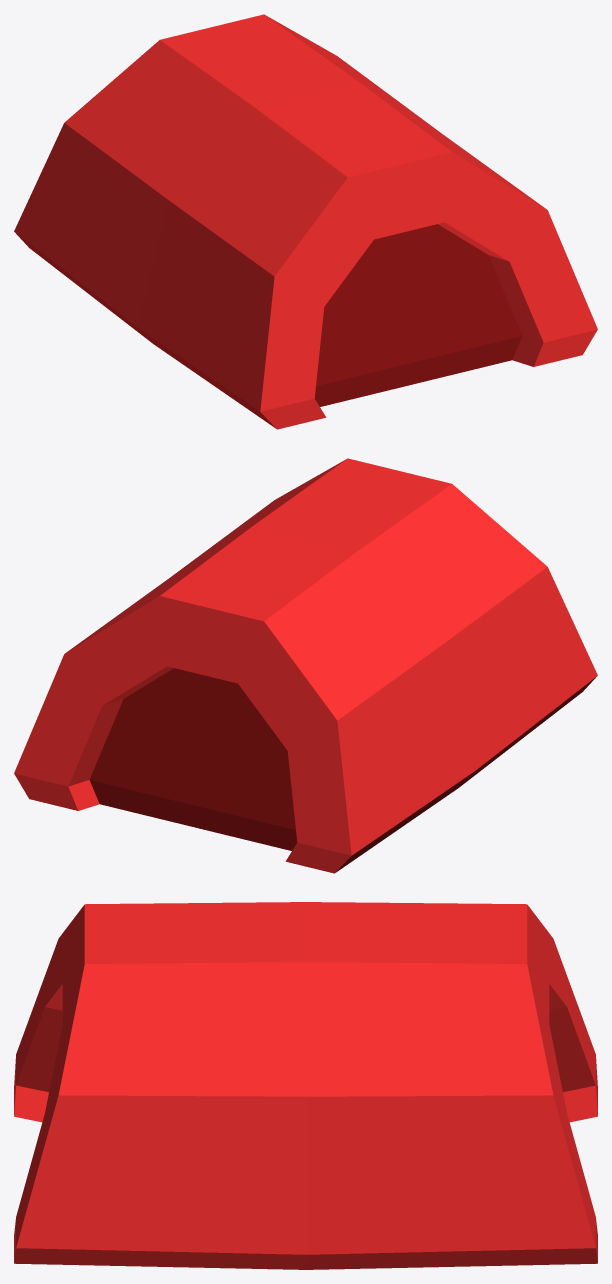
The picture shows the model from 3 angles, top to bottom: view 1: azimuth 30°, elevation 25°; view 2: azimuth 150°, elevation 25°; view 3: azimuth 270°, elevation 25°; orthographic projection. The views are drawn at different scales.
Parts seen in each view (by area): view 1: Cylinder.002; view 2: Cylinder.002; view 3: Cylinder.002.
Boxes of the visible parts, x1,y1,x2,y2 form: Cylinder.002: [14, 14, 597, 429]; Cylinder.002: [14, 458, 597, 873]; Cylinder.002: [14, 902, 597, 1269].
Bounding box in the file's own units: 45.77 × 28.01 × 58.26.
